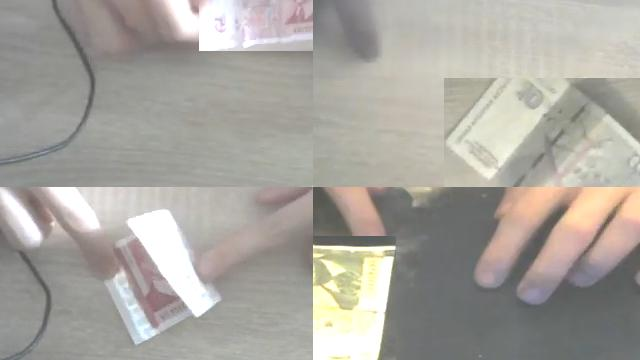10leva: (444, 78, 640, 187), (456, 78, 640, 187), (313, 238, 396, 360)
